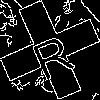R: (25, 25, 76, 82)
